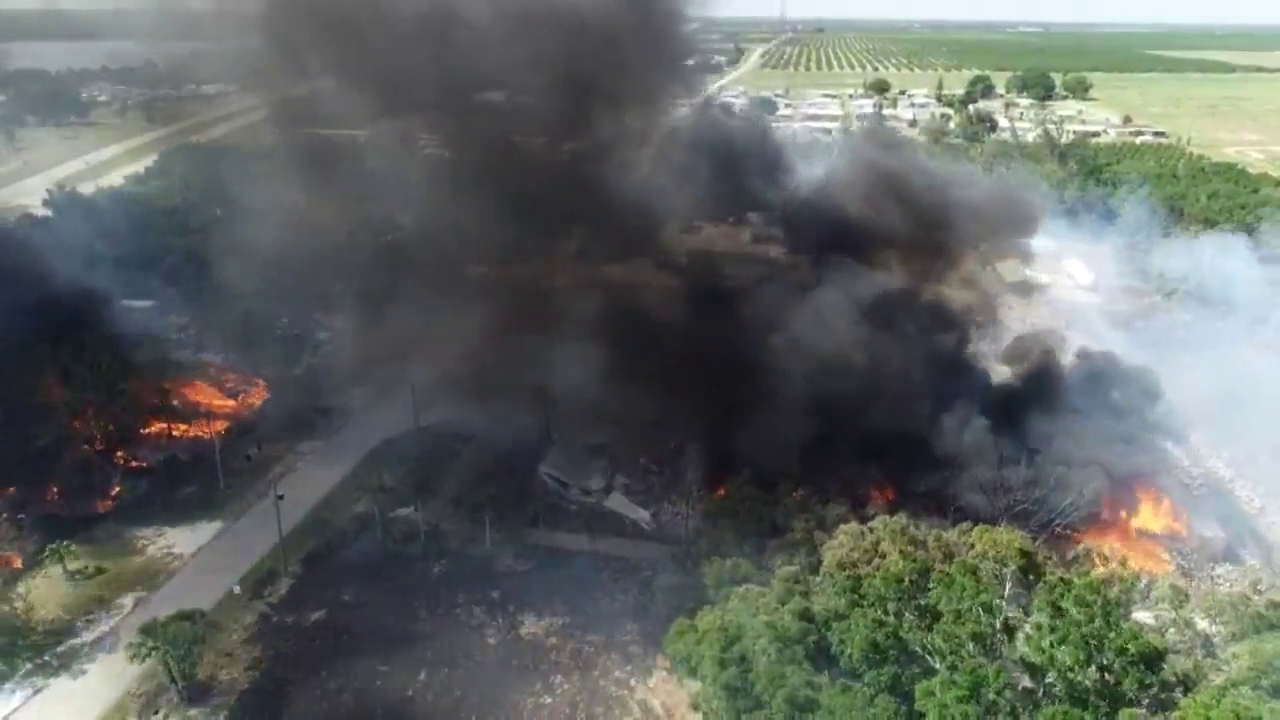forest_fire: (37, 364, 269, 514), (1075, 482, 1189, 573), (142, 367, 269, 437), (53, 393, 63, 399), (84, 468, 88, 471), (125, 415, 126, 416)
